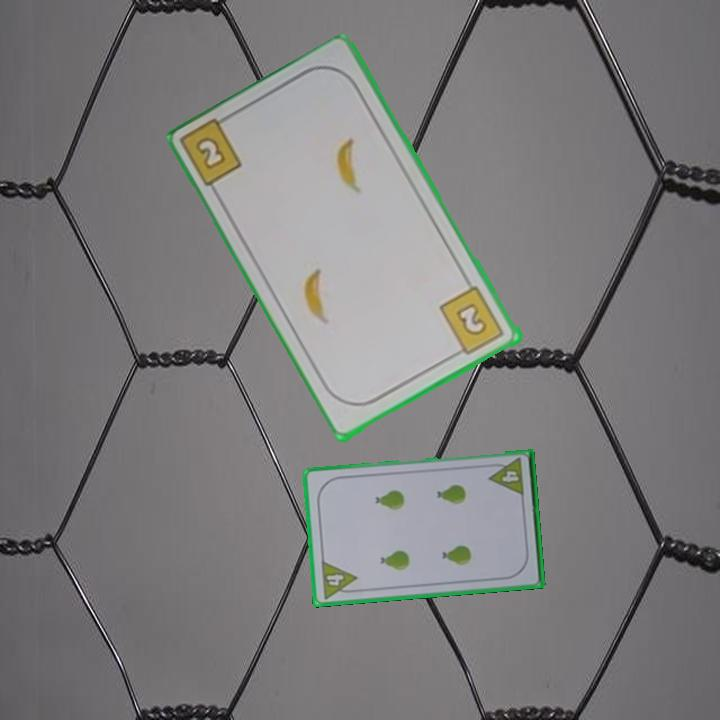2b: (436, 283, 508, 360), (180, 111, 246, 191)
4p: (317, 557, 360, 602), (485, 455, 527, 499)
